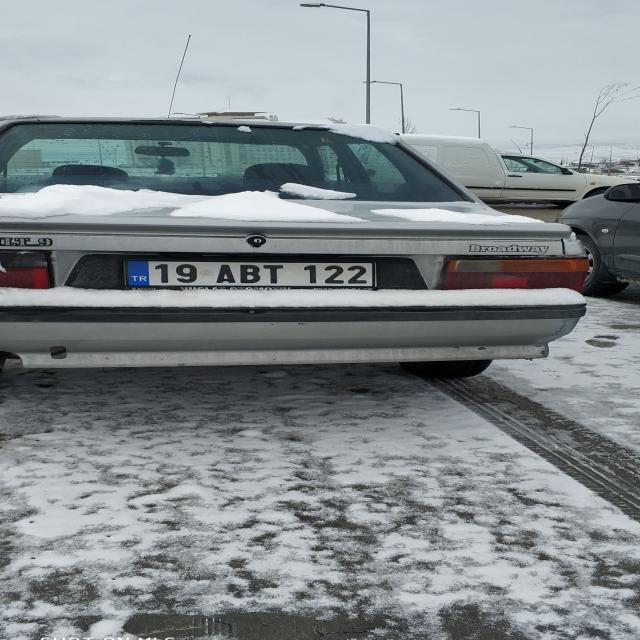plate: (123, 260, 374, 287)
